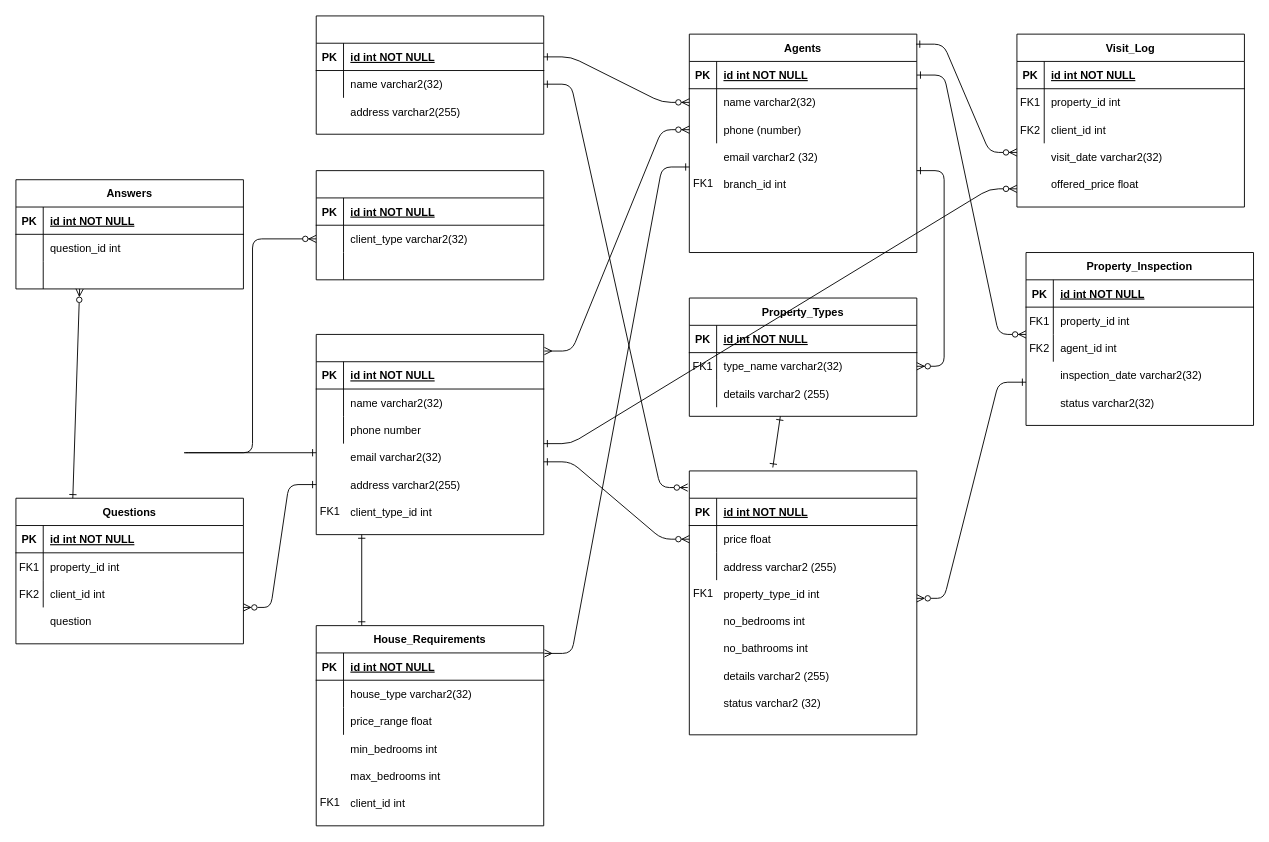
This 1269x842 diagram has some shape labels left out. Each missing label, with the box of its shape:
Branches: (315, 15, 544, 134)
Client_Types: (315, 170, 544, 280)
Clients: (315, 334, 544, 535)
Properties: (688, 470, 917, 735)
